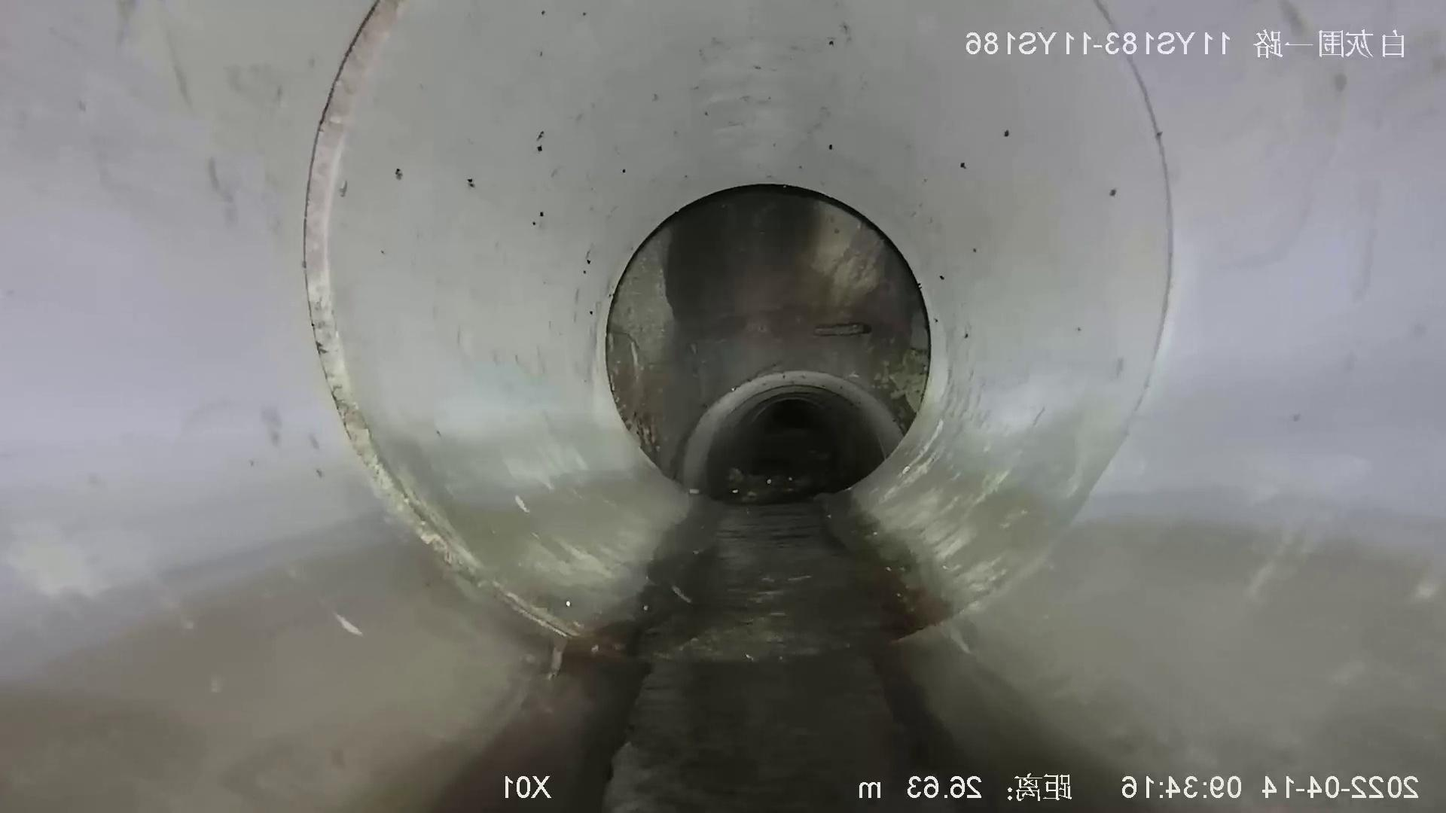CKTJ: (303, 0, 581, 650)
